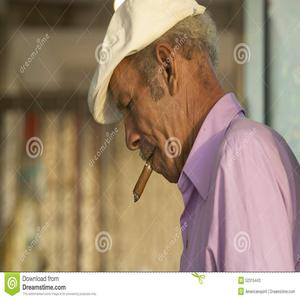cigarette: (130, 156, 156, 204)
